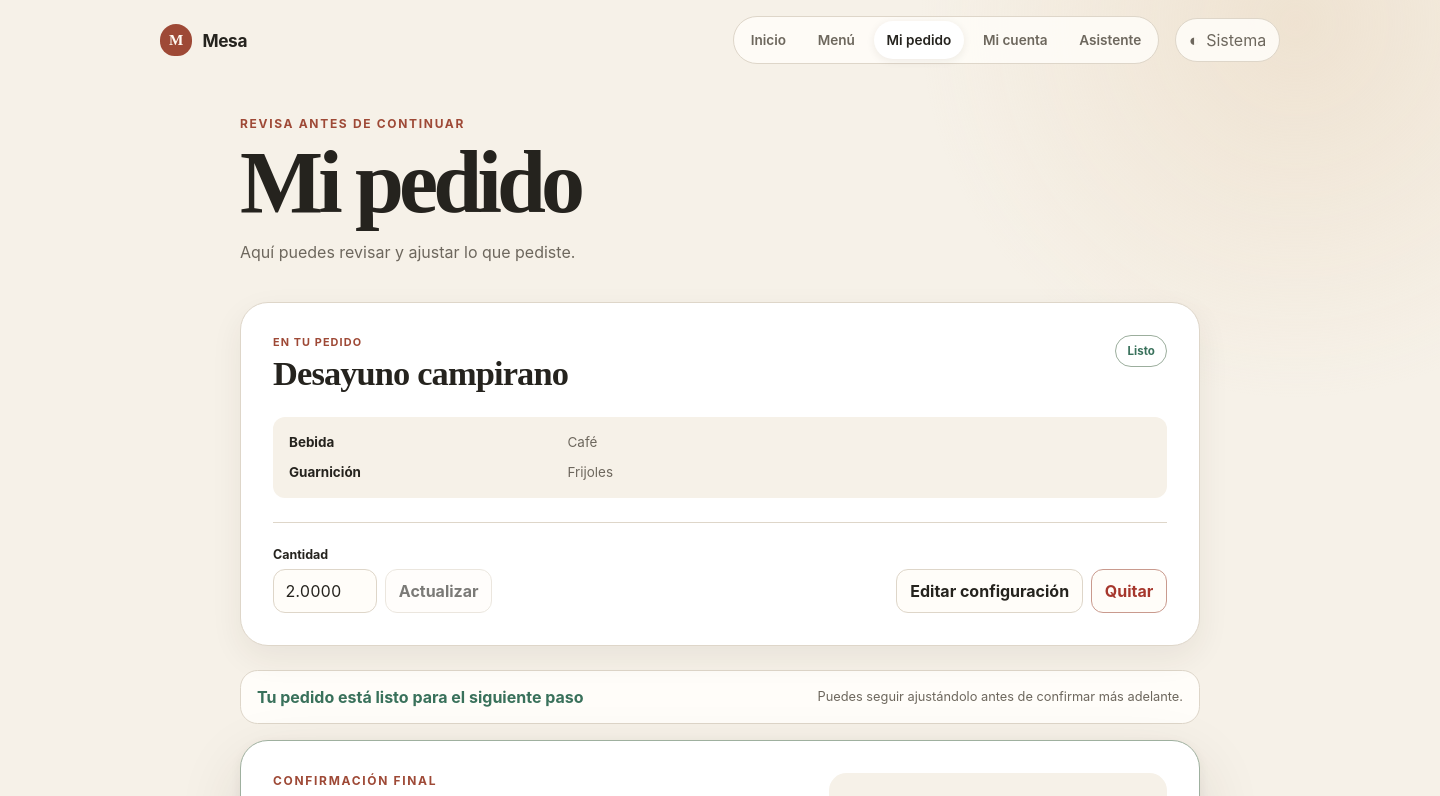
Test: draft review › sends an exact versioned quantity mutation and waits for backend confirmation
Replace the text in the field labelled "Cantidad" with "3.5" at (325, 591), box [273,569,377,613]
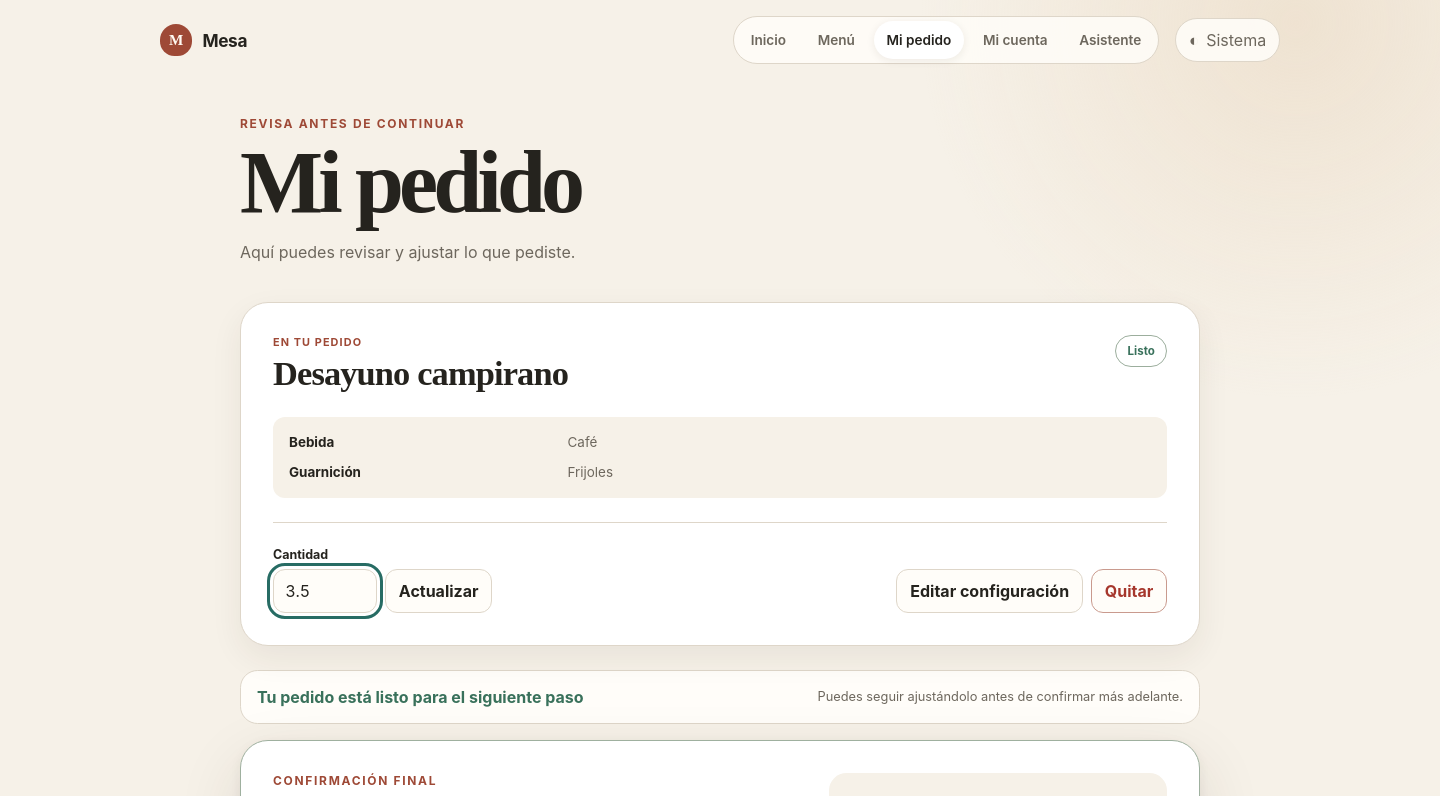
Click the button "Actualizar" at (439, 591), box [385,569,492,613]
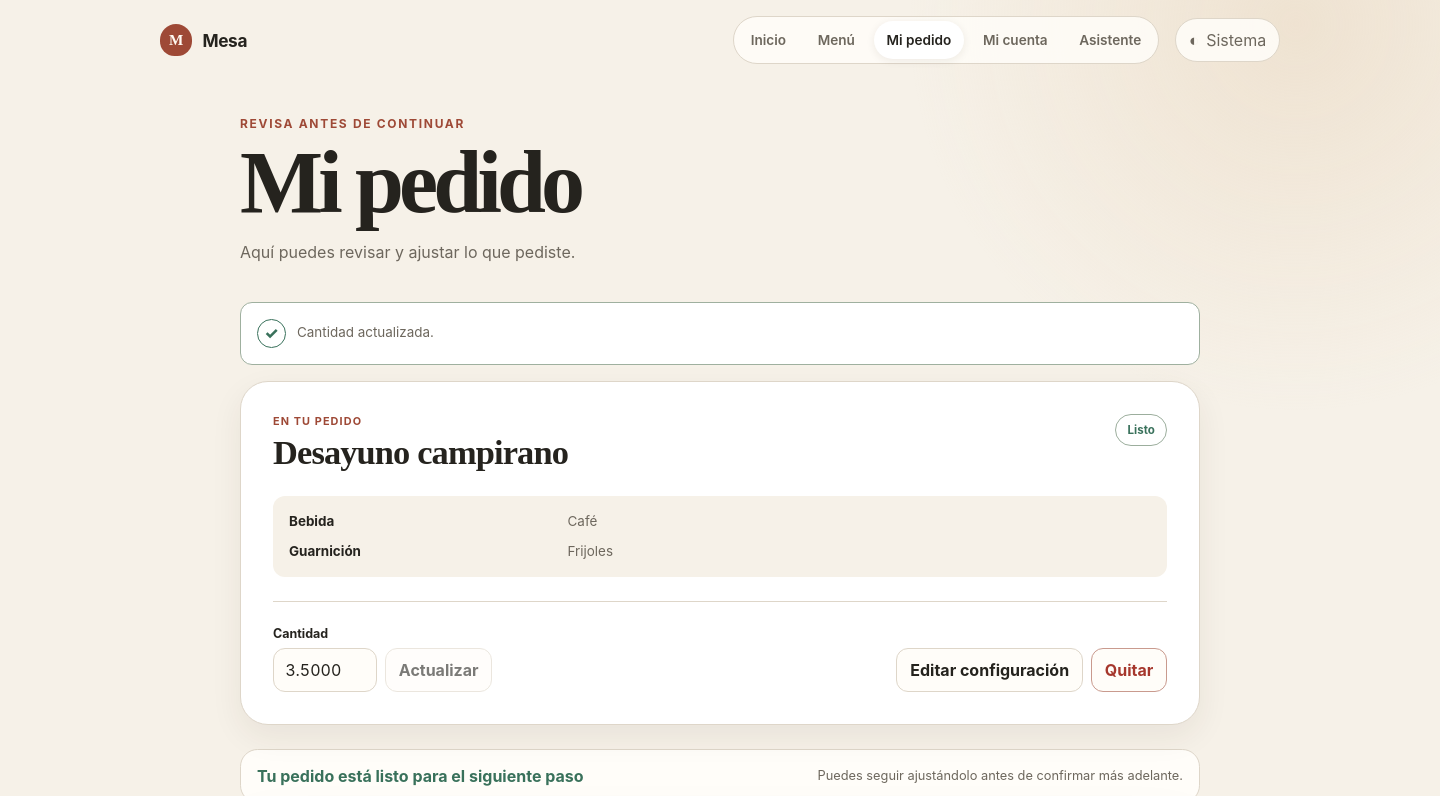
Expected: the button "Actualizar" is disabled, [385,648,492,692]
Expected: the text "Cantidad actualizada." is shown, [297,323,434,343]
Expected: the field showing "3.5000" is shown, [273,648,377,692]
